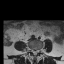CCS_normal: (34, 48, 36, 56)
LFS_normal: (38, 48, 40, 54)
LLS_normal: (36, 48, 38, 55)
RFS_normal: (30, 47, 32, 53)
RLS_normal: (32, 48, 34, 55)
